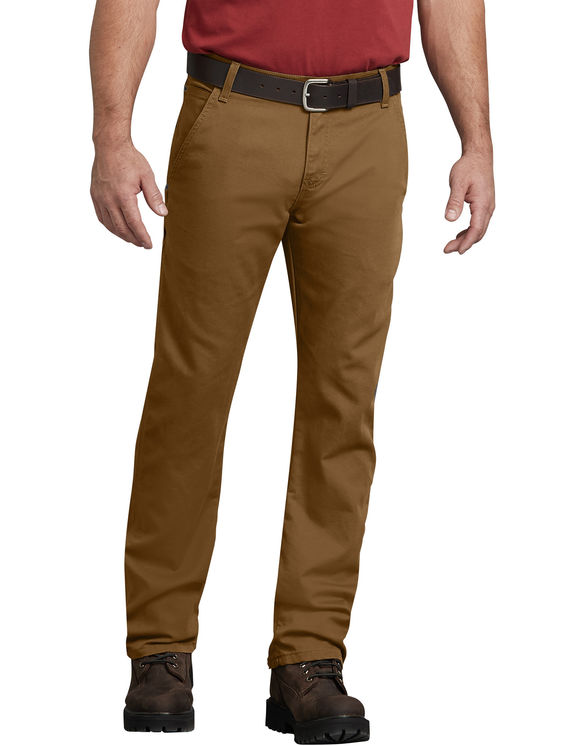feet: (105, 576, 369, 746)
